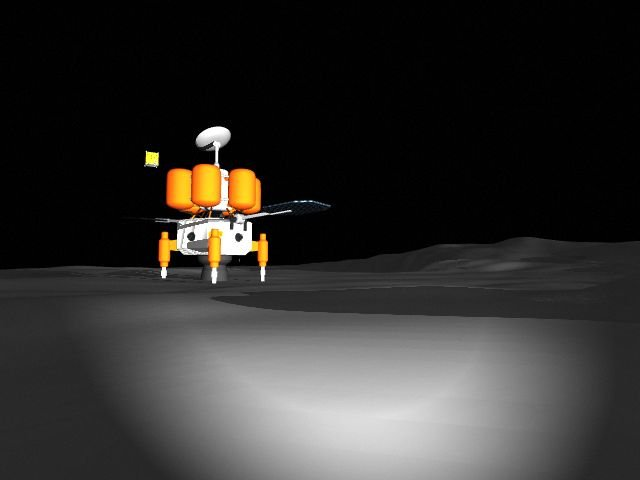cubesat: (140, 148, 162, 169)
